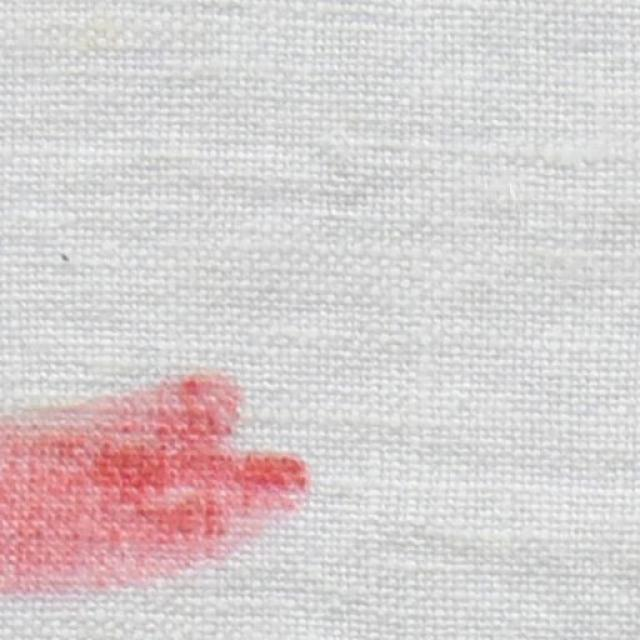Stain: (0, 374, 309, 594)
